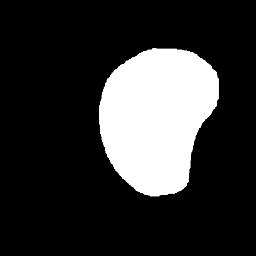mass: (98, 51, 219, 190)
